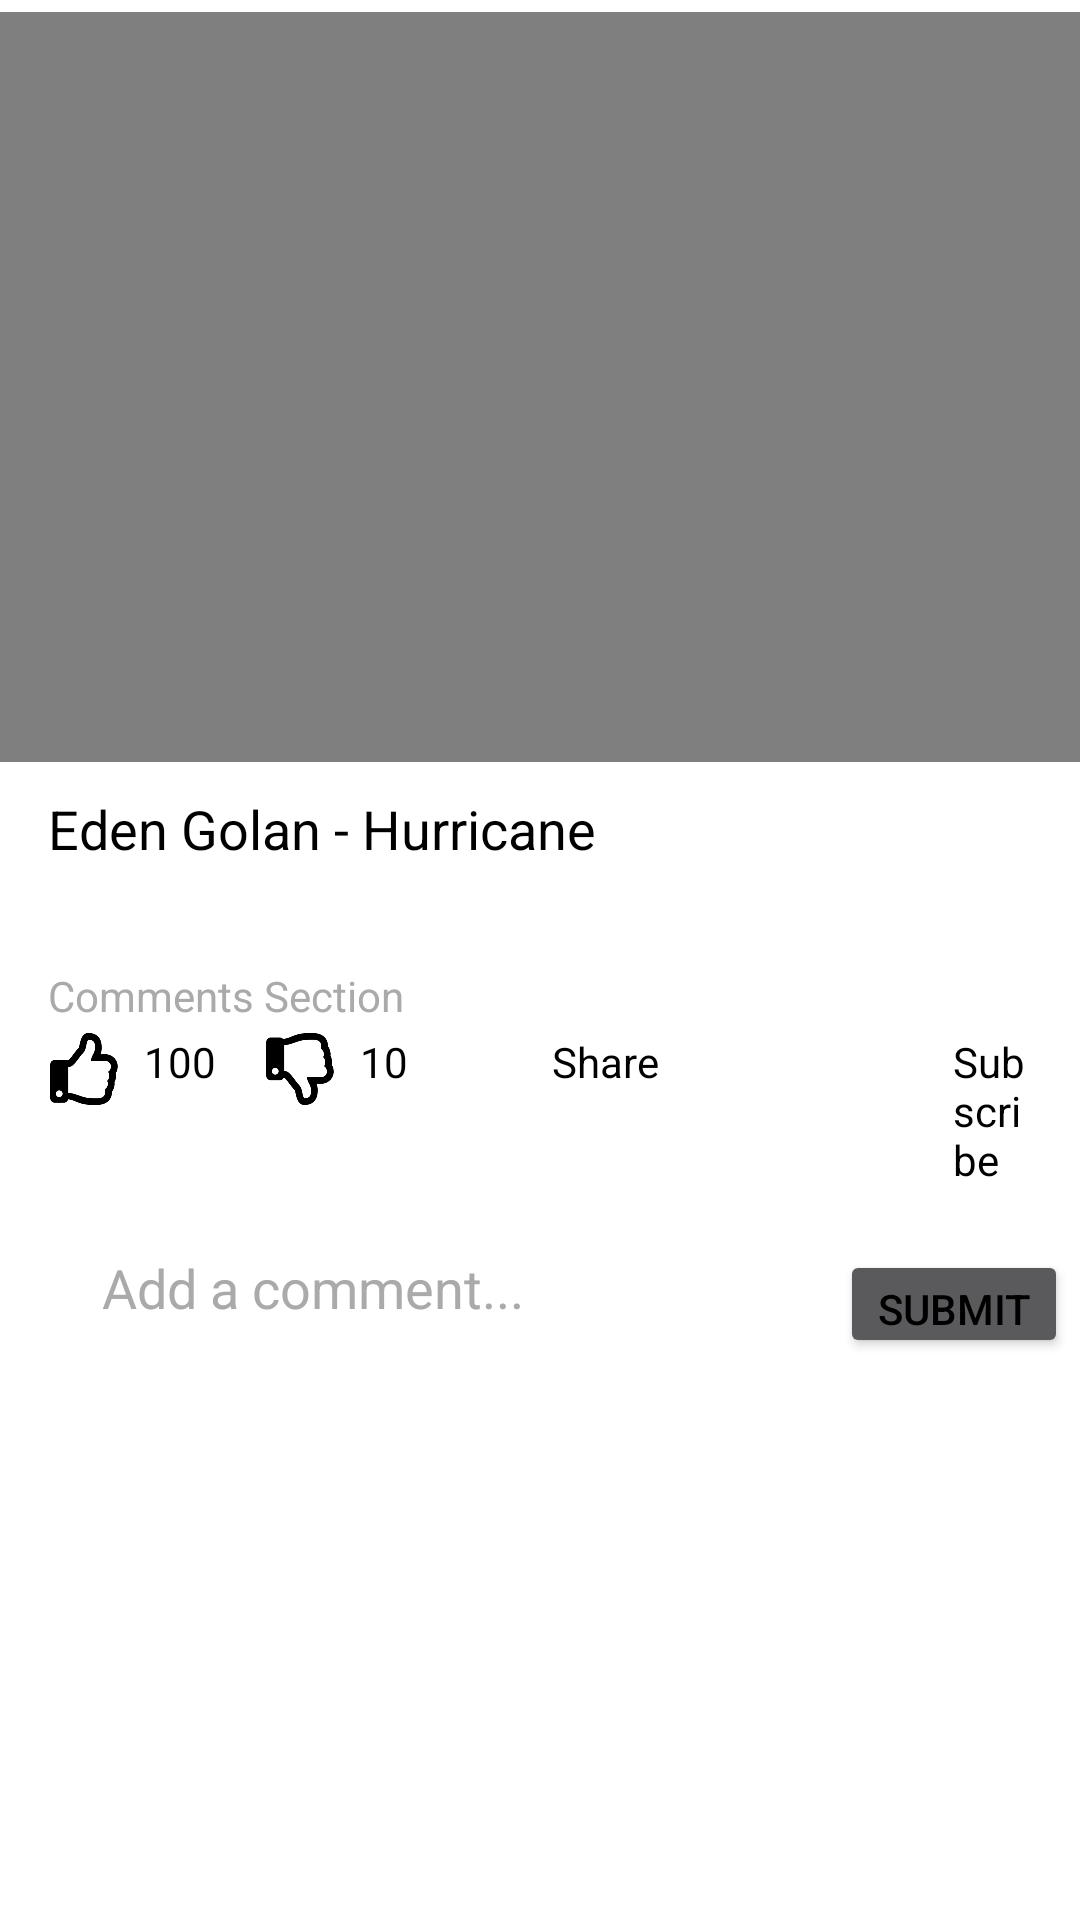

Named icons in this screenshot (1080x1920) and their bounding boxes, (x1, y1, x2, y2):
dislike: (266, 1033, 334, 1105)
like: (50, 1033, 118, 1105)
